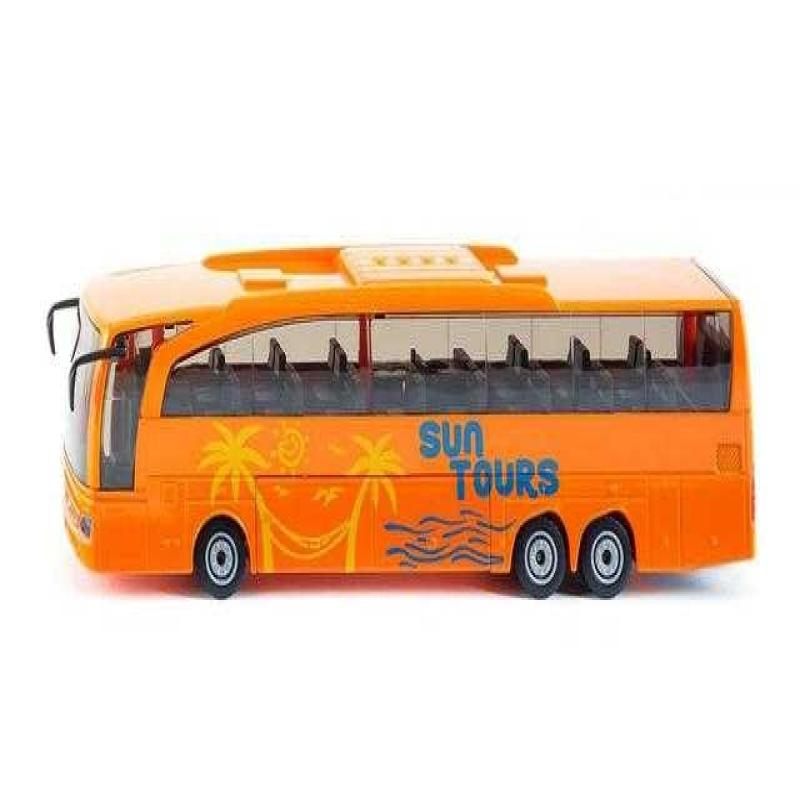bus: (27, 226, 772, 651)
